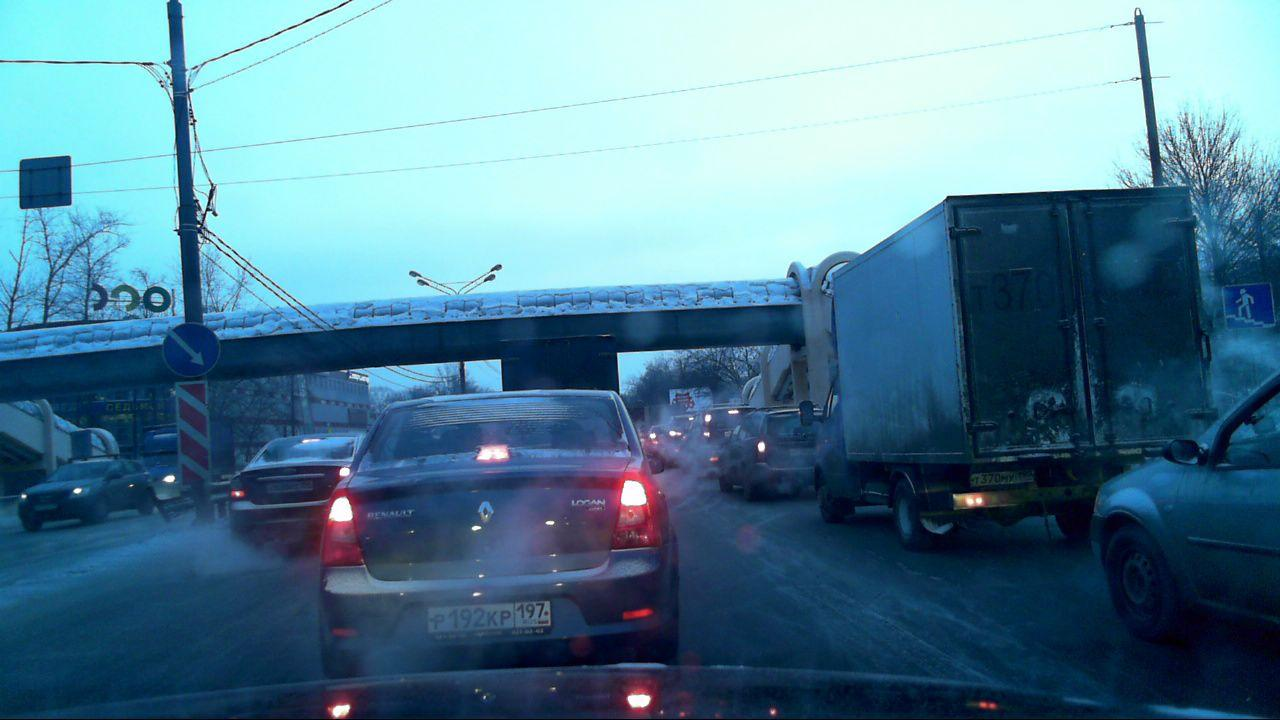4_2_1: (162, 320, 222, 378)
6_7: (1216, 278, 1274, 334)
8_22_1: (174, 381, 210, 490)
